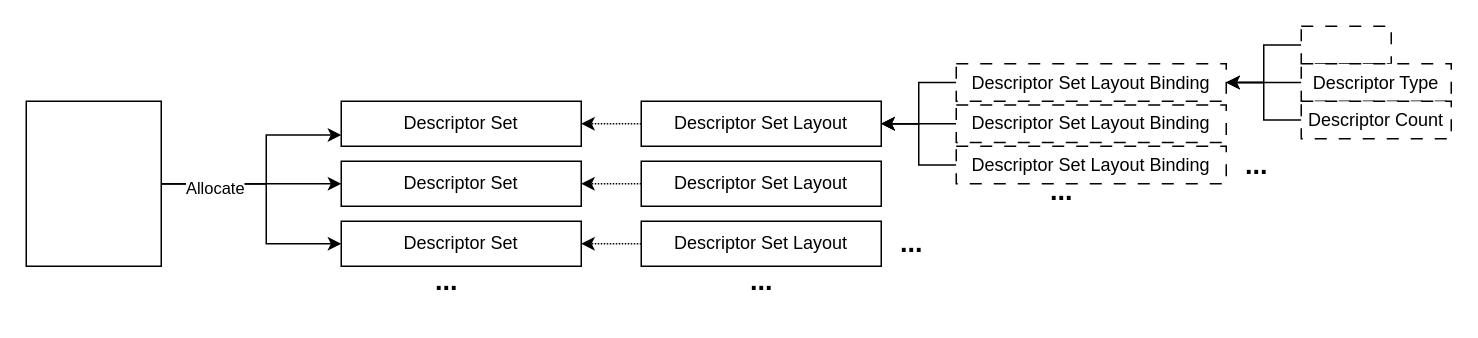
This 1478x338 diagram has some shape labels left out. Each missing label, with the centre of its shape:
"Binding" belongs at [1345,44].
"Descriptor Pool" belongs at [93,183].
